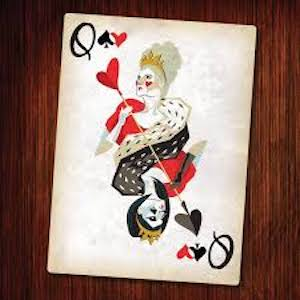QueenOfHearts: (46, 9, 263, 291)
